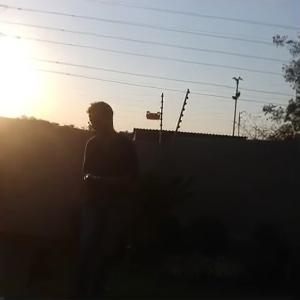follow: (79, 96, 144, 298)
